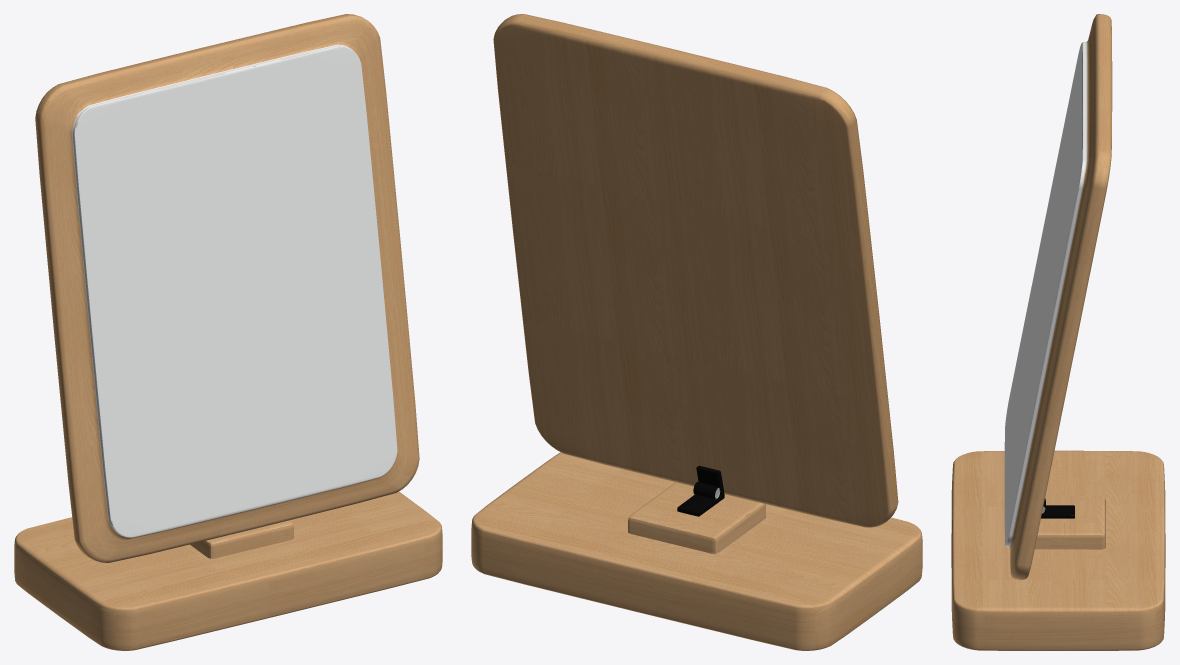
File: MEGA_PACK_Mirror__mirror-459754_frame_natural.glb
3 views of the same model, side by side, from view 1: azimuth 30°, elevation 25°; view 2: azimuth 150°, elevation 25°; view 3: azimuth 270°, elevation 25° (orthographic). The views are drawn at different scales.
Parts seen in each view (by area): view 1: mirror-459754_frame_natural; view 2: mirror-459754_frame_natural; view 3: mirror-459754_frame_natural.
Boxes of the visible parts, x1=… form: mirror-459754_frame_natural: x1=14, y1=14, x2=442, y2=650; mirror-459754_frame_natural: x1=471, y1=14, x2=922, y2=650; mirror-459754_frame_natural: x1=951, y1=14, x2=1165, y2=650.
Bounding box in the file's own units: 0.16 × 0.2277 × 0.09.
1 material, 1 textured.
